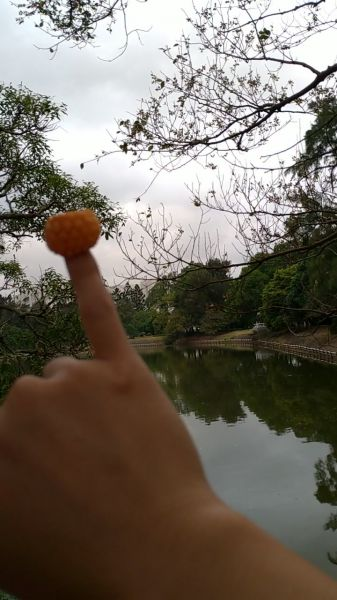eggs: (44, 209, 100, 258)
